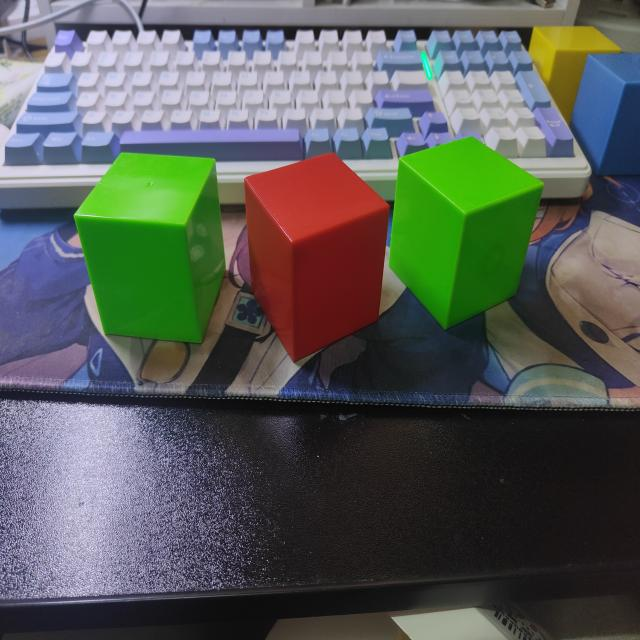green: (389, 134, 547, 329), (72, 152, 223, 348)
red: (244, 150, 389, 361)
